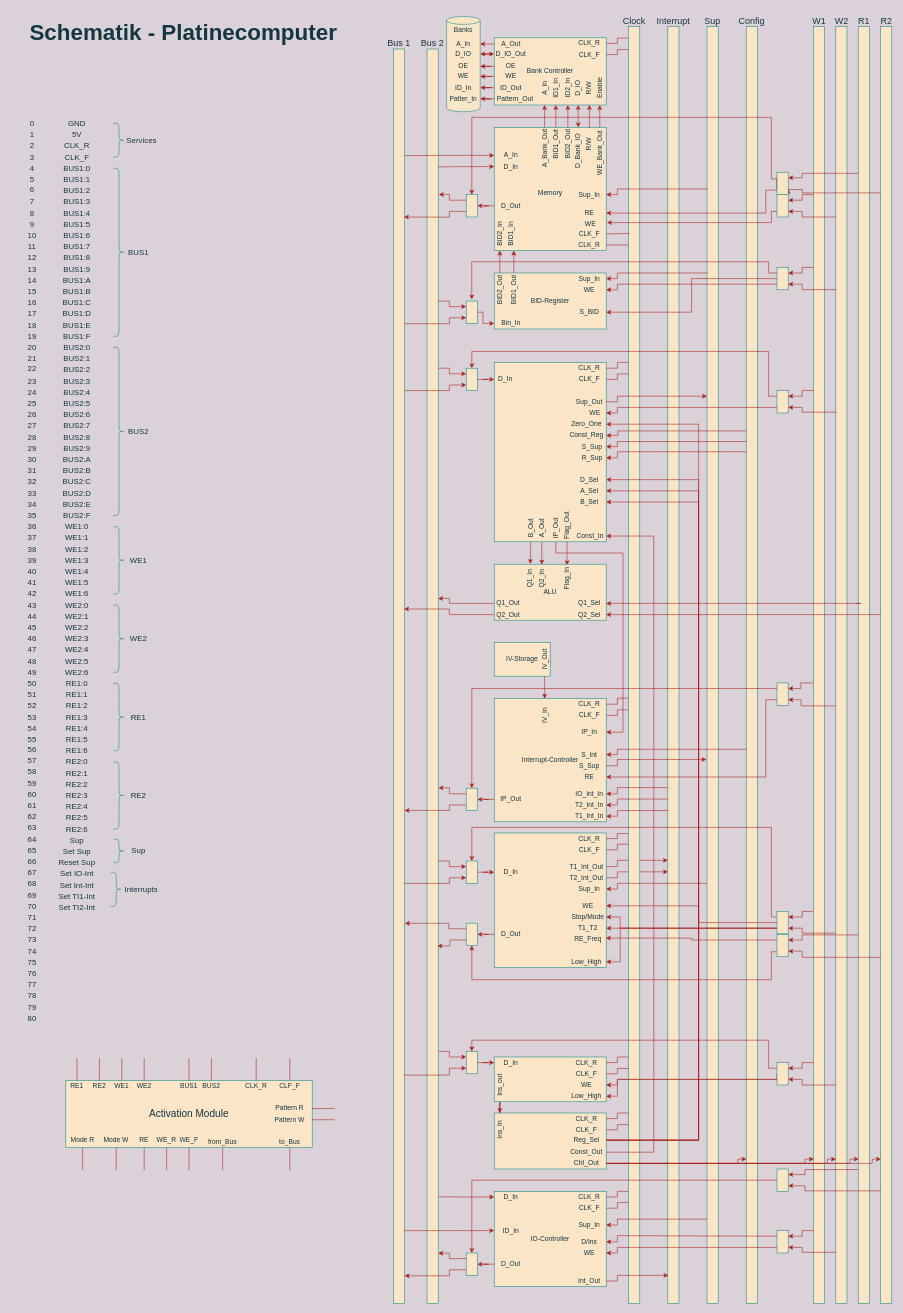
Image size: 903x1313. Some labels were removed from this diagram. The shapes that lost their labels are listed below. From the top down, each one's box as (x1, y1, x2, y2) in pixels, then its label:
(494, 362, 606, 542): Register File
(494, 832, 606, 967): Timer
(494, 1056, 606, 1102): IR
(494, 1112, 606, 1169): Instruction-Decoder
